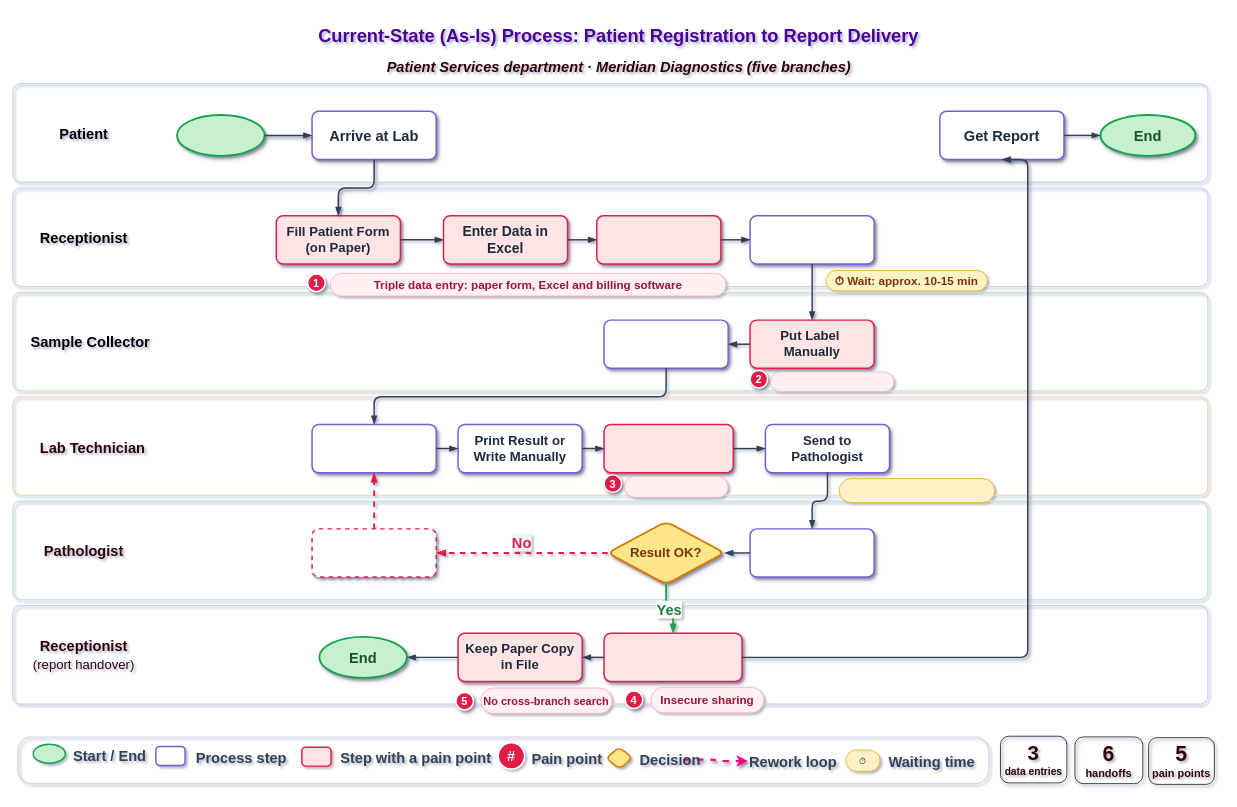
This 1237x807 diagram has some shape labels left out. The centre of each missing label's shape, as x and y in pixels:
"Enter Data in Billing Software" belongs at point (659, 240).
"Give Report or Send via WhatsApp" belongs at point (673, 658).
"Hand-labelling risk" belongs at point (832, 381).
"Perform Tests" belongs at point (374, 449).
"Result re-typed" belongs at point (676, 486).
"Review & Sign Report" belongs at point (812, 554).
"Send Back to Lab" belongs at point (374, 554).
"Send Sample to Lab" belongs at point (666, 345).
"Send to Sample Collector" belongs at point (812, 240).
"Start" belongs at point (221, 136).
"Type Result Again in System" belongs at point (669, 449).
"⏱ Wait: approx. 2-4 hours" belongs at point (916, 490).
